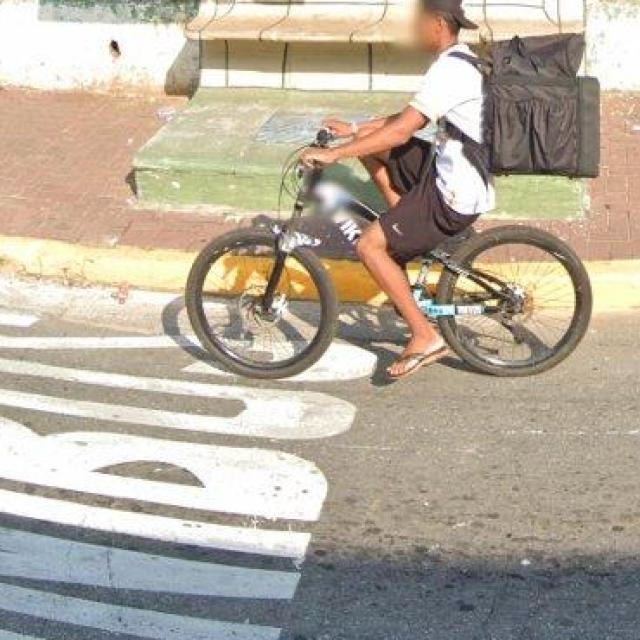bicycle: (136, 87, 612, 411)
